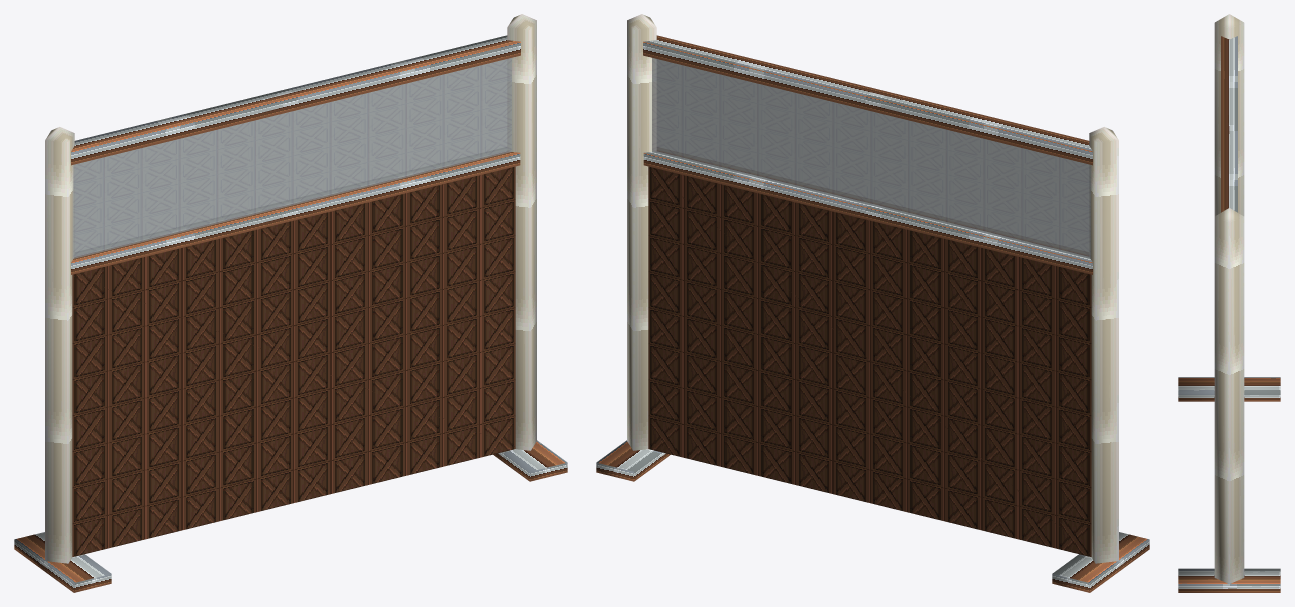
The model's file is 3338IMIG11_07.gltf.
3 views of the same model, side by side, from view 1: azimuth 30°, elevation 25°; view 2: azimuth 150°, elevation 25°; view 3: azimuth 270°, elevation 25° (orthographic). The views are drawn at different scales.
Parts seen in each view (by area): view 1: 3338IMIG11_07; view 2: 3338IMIG11_07; view 3: 3338IMIG11_07.
Boxes of the visible parts, left/top/right/bottom form: 3338IMIG11_07: left=14, top=14, right=567, bottom=592; 3338IMIG11_07: left=596, top=14, right=1149, bottom=592; 3338IMIG11_07: left=1178, top=14, right=1280, bottom=592.
Size of the model in its own units: 1.9 by 1.62 by 0.3975.
Materials: 4 (4 with a texture image).
